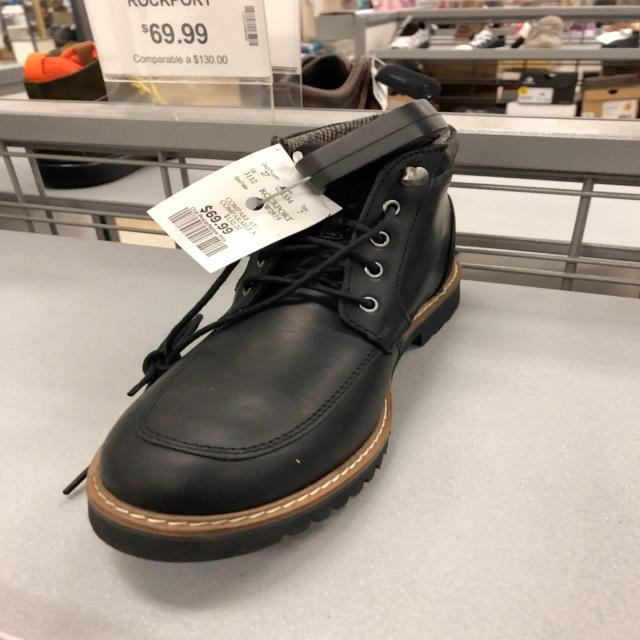shoe: (64, 99, 460, 566)
